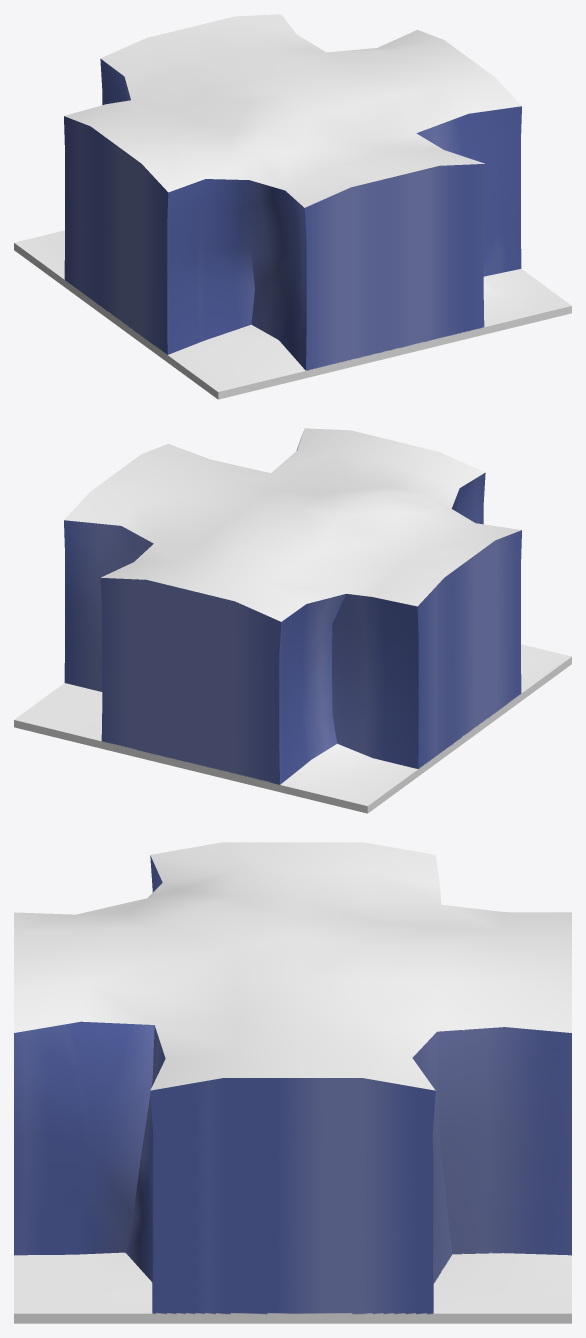
File: wall_slim_join4_1.glb
The picture shows the model from 3 angles, top to bottom: view 1: azimuth 30°, elevation 25°; view 2: azimuth 150°, elevation 25°; view 3: azimuth 270°, elevation 25°; orthographic projection. The views are drawn at different scales.
Parts seen in each view (by area): view 1: wall_slim_join4_1.001; view 2: wall_slim_join4_1.001; view 3: wall_slim_join4_1.001.
Boxes of the visible parts, left/top/right/bottom form: wall_slim_join4_1.001: left=14, top=14, right=571, bottom=399; wall_slim_join4_1.001: left=14, top=428, right=571, bottom=813; wall_slim_join4_1.001: left=14, top=842, right=571, bottom=1323.
Bounding box in the file's own units: 2 × 1.04 × 2.
1 material, 1 textured.
